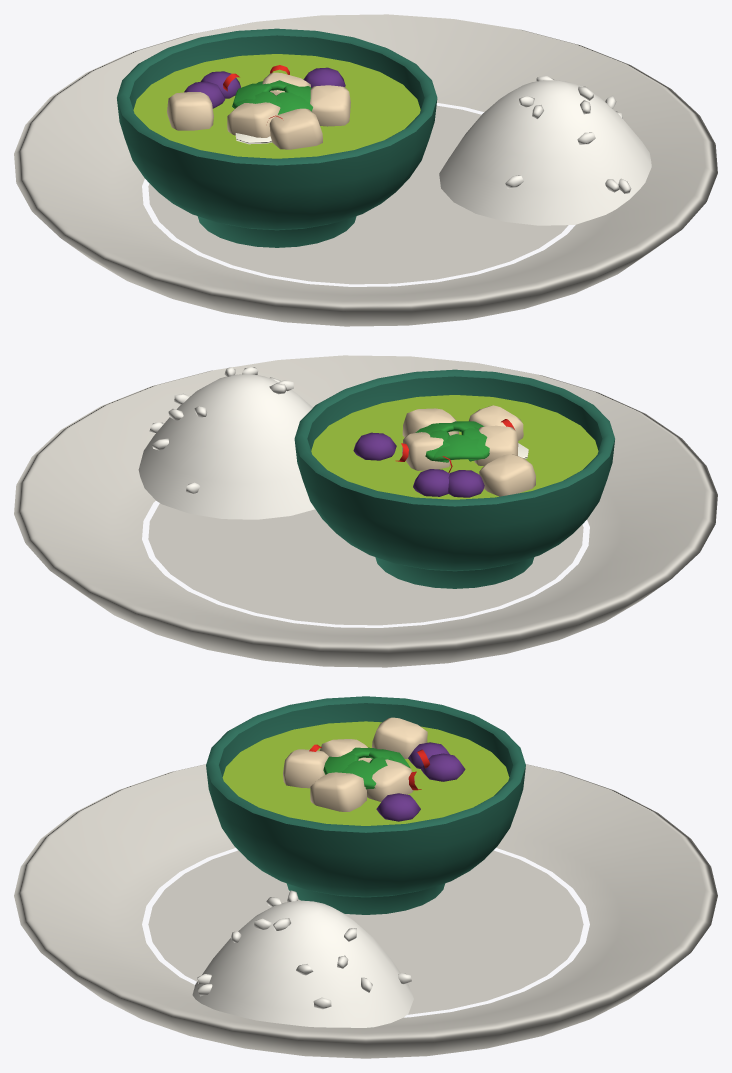
The picture shows the model from 3 angles, top to bottom: view 1: azimuth 30°, elevation 25°; view 2: azimuth 150°, elevation 25°; view 3: azimuth 270°, elevation 25°; orthographic projection.
Parts seen in each view (by area): view 1: plate, plate_well, rice, bowl_outer, curry, chicken (×4), bowl_rim, bowl_inner, eggplant (×3), basil; view 2: plate, plate_well, bowl_outer, rice, curry, bowl_rim, chicken (×5), bowl_inner, eggplant (×3), basil; view 3: plate, plate_well, bowl_outer, rice, curry, chicken (×5), bowl_rim, bowl_inner, eggplant (×2).
Part boxes in pixels (<box>): plate: <box>14,14,717,326</box>; plate_well: <box>148,105,568,284</box>; rice: <box>439,80,651,225</box>; bowl_outer: <box>117,99,437,247</box>; curry: <box>133,54,420,158</box>; chicken (×4): <box>167,85,350,149</box>; bowl_rim: <box>117,28,437,165</box>; bowl_inner: <box>129,35,424,109</box>; eggplant (×3): <box>184,67,345,108</box>; basil: <box>276,92,312,114</box>; plate: <box>14,355,717,667</box>; plate_well: <box>148,503,583,625</box>; bowl_outer: <box>294,440,614,588</box>; rice: <box>138,374,315,519</box>; curry: <box>311,395,598,499</box>; bowl_rim: <box>294,369,614,506</box>; chicken (×5): <box>402,405,535,496</box>; bowl_inner: <box>307,376,602,450</box>; eggplant (×3): <box>353,432,484,497</box>; basil: <box>427,434,488,460</box>; plate: <box>14,764,717,1058</box>; plate_well: <box>148,850,583,1014</box>; bowl_outer: <box>206,766,525,914</box>; rice: <box>192,900,413,1027</box>; curry: <box>222,721,509,825</box>; chicken (×5): <box>283,717,427,811</box>; bowl_rim: <box>206,696,525,832</box>; bowl_inner: <box>219,703,512,776</box>; eggplant (×2): <box>376,753,465,821</box>.
Size of the model in its own units: 0.22 by 0.0514 by 0.22.
